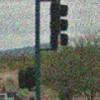chimneys: (51, 0, 61, 49)
